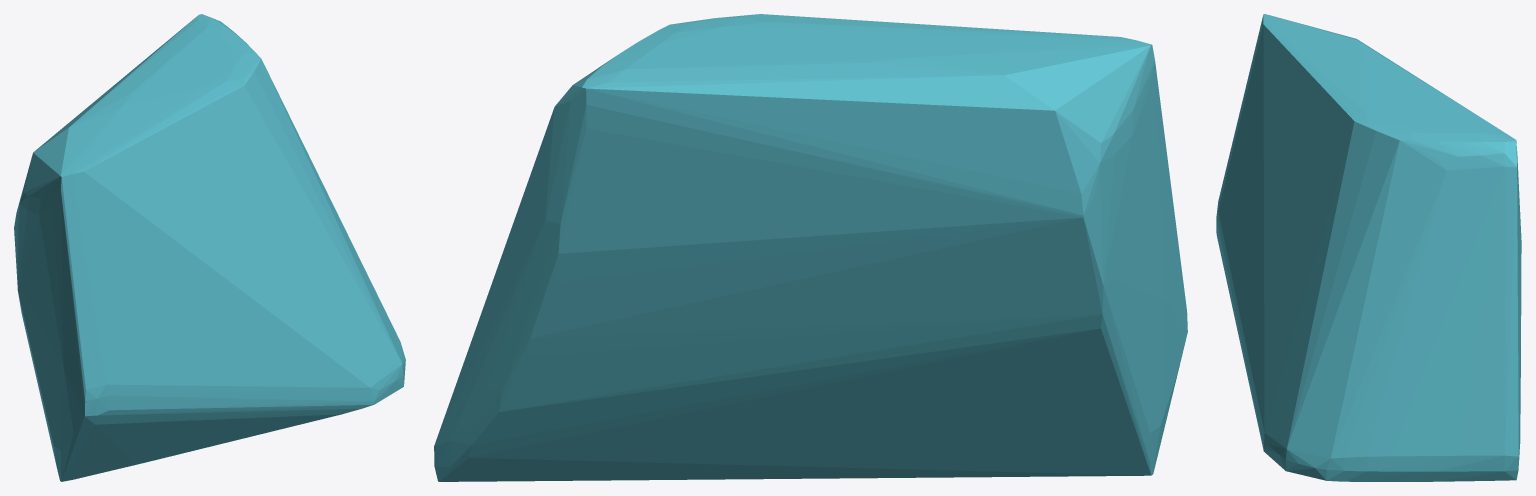
The model's file is left-hip-roll-0_part_2.obj.
3 views of the same model, side by side, from view 1: azimuth 30°, elevation 25°; view 2: azimuth 150°, elevation 25°; view 3: azimuth 270°, elevation 25° (orthographic). The views are drawn at different scales.
Bounding box in the file's own units: 0.026 × 0.02 × 0.0187.
